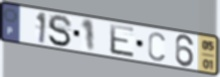1: (80, 19, 96, 54), (35, 11, 48, 46)
6: (174, 34, 194, 68)
C: (147, 31, 167, 63)
E: (108, 22, 136, 59)
S: (47, 14, 74, 49)
